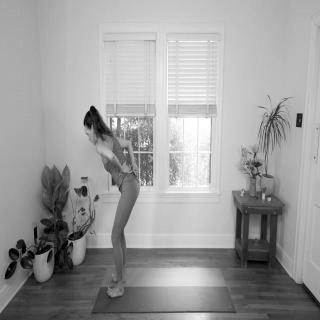person - v3 P: (73, 92, 152, 306)
